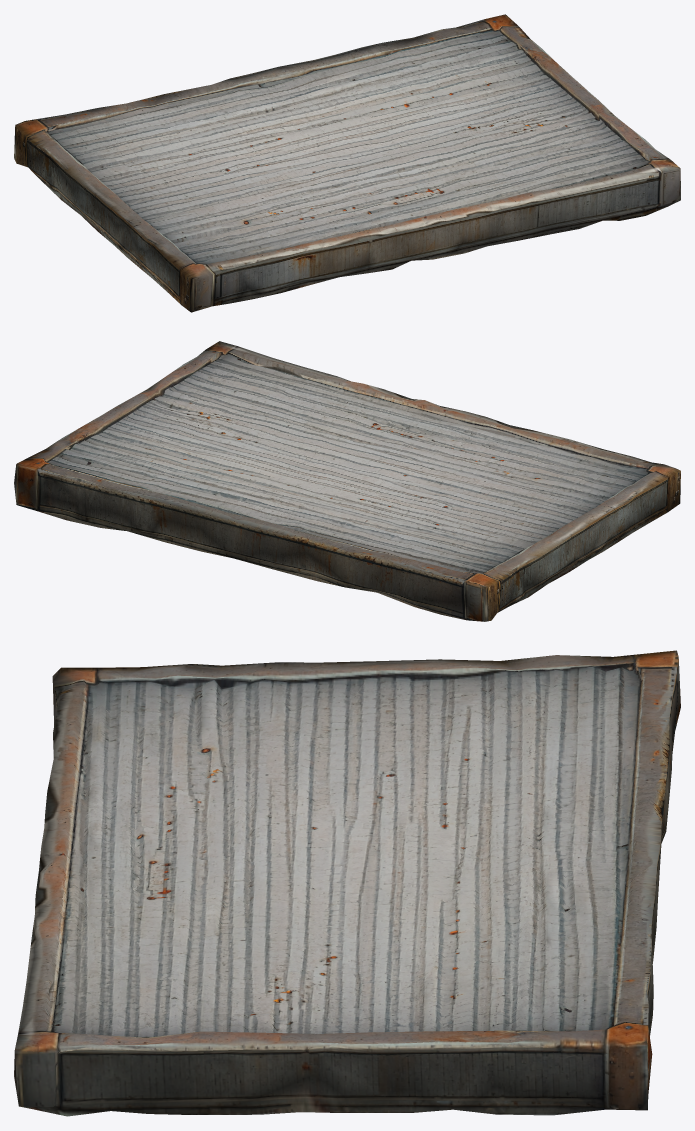
The model's file is EX_Camp_Roof.fbx.
The picture shows the model from 3 angles, top to bottom: view 1: azimuth 30°, elevation 25°; view 2: azimuth 150°, elevation 25°; view 3: azimuth 270°, elevation 25°; orthographic projection. The views are drawn at different scales.
Visible parts, largest first — view 1: texture_mapping; view 2: texture_mapping; view 3: texture_mapping.
Boxes of the visible parts, x1,y1,x2,y2 form: texture_mapping: (14, 14, 680, 312); texture_mapping: (14, 341, 680, 621); texture_mapping: (14, 650, 680, 1116).
Bounding box in the file's own units: 1 × 0.7034 × 0.1081.
1 material, 1 textured.
